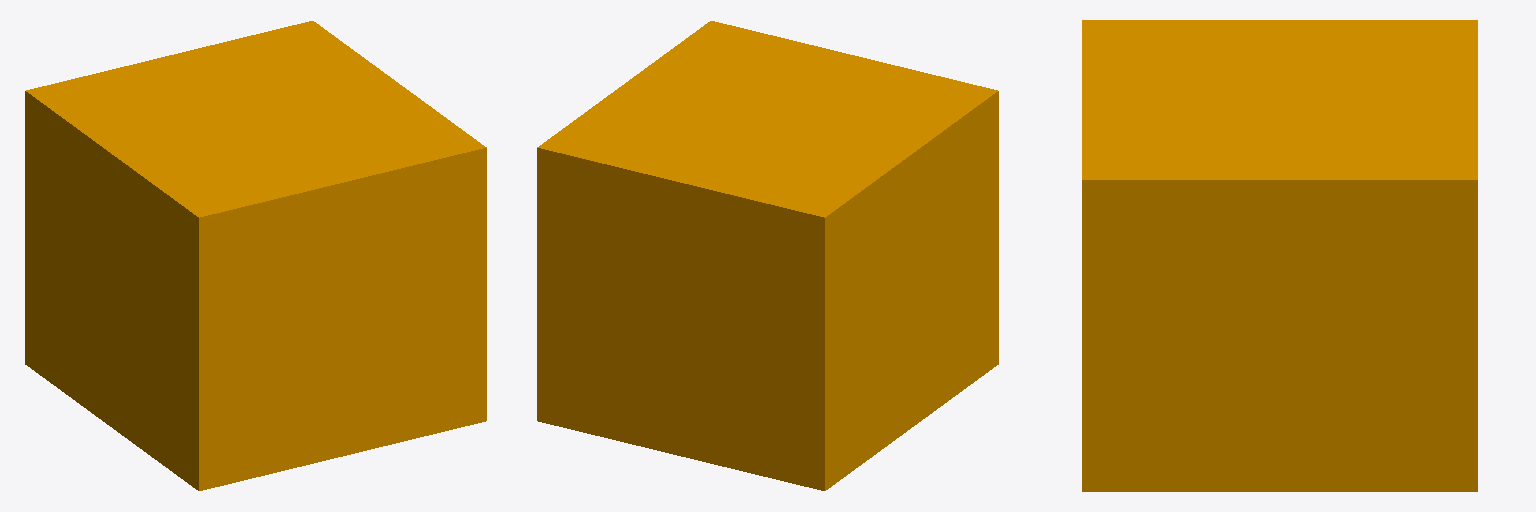
The robot description file, URDF, robot "object":
<robot name="object">
  <link name="object">
    <visual>
      <origin xyz="0 0 0" />
      <geometry>
        <box size="0.08800000000000002 0.09200000000000003 0.08" />
      </geometry>
    </visual>

    <collision>
      <origin xyz="0 0 0" />
      <geometry>
        <box size="0.08800000000000002 0.09200000000000003 0.08" />
      </geometry>
    </collision>

    <inertial>
      <mass value="0.05" />
      <inertia ixx="0.0001" ixy="0.0" ixz="0.0" iyy="0.0001" iyz="0.0" izz="0.0001" />
    </inertial>
  </link>
</robot>

--- What the picture shows (computed from the rendered views, not written in the file) ---
The picture shows the robot from 3 angles, left to right: view 1: azimuth 30°, elevation 25°; view 2: azimuth 150°, elevation 25°; view 3: azimuth 270°, elevation 25°; orthographic projection.
Robot: object — 1 links, 0 joints (none); root link object; default pose: all joints at 0.
Links seen in each view (by area): view 1: object; view 2: object; view 3: object.
Link boxes in pixels (x1,y1,x2,y2): object: [25, 21, 486, 490]; object: [537, 21, 998, 490]; object: [1082, 20, 1477, 491].
Size in the robot's own frame: 0.088 by 0.092 by 0.08 metres.
Geometry: primitives only (box / cylinder / sphere), no mesh files.